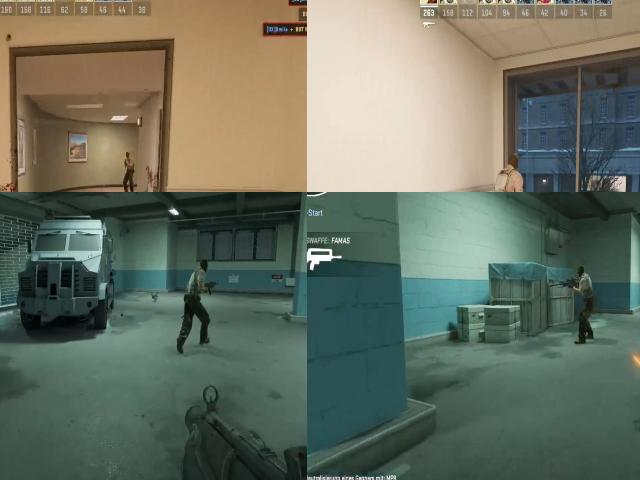T: (572, 258, 599, 317), (491, 157, 523, 192), (185, 267, 211, 307), (122, 148, 136, 175)
T-Head: (507, 151, 521, 176), (196, 256, 210, 278), (574, 265, 587, 278), (124, 151, 133, 161)
